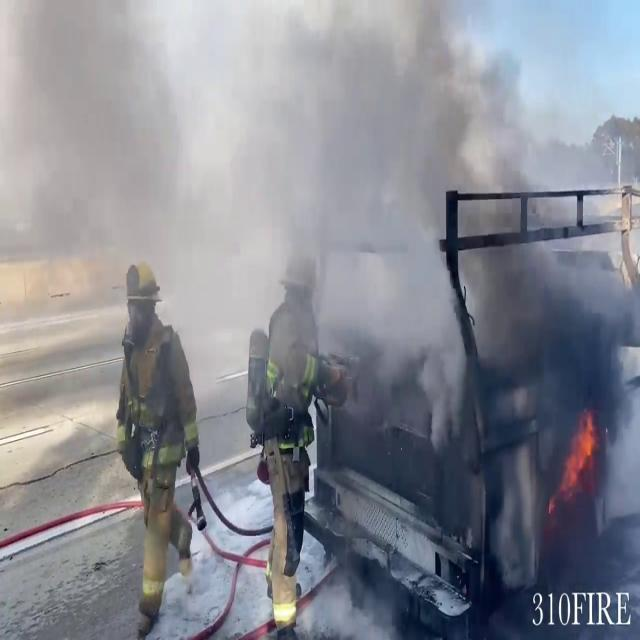Fire: (563, 404, 599, 494)
Smoke: (2, 0, 640, 365)
